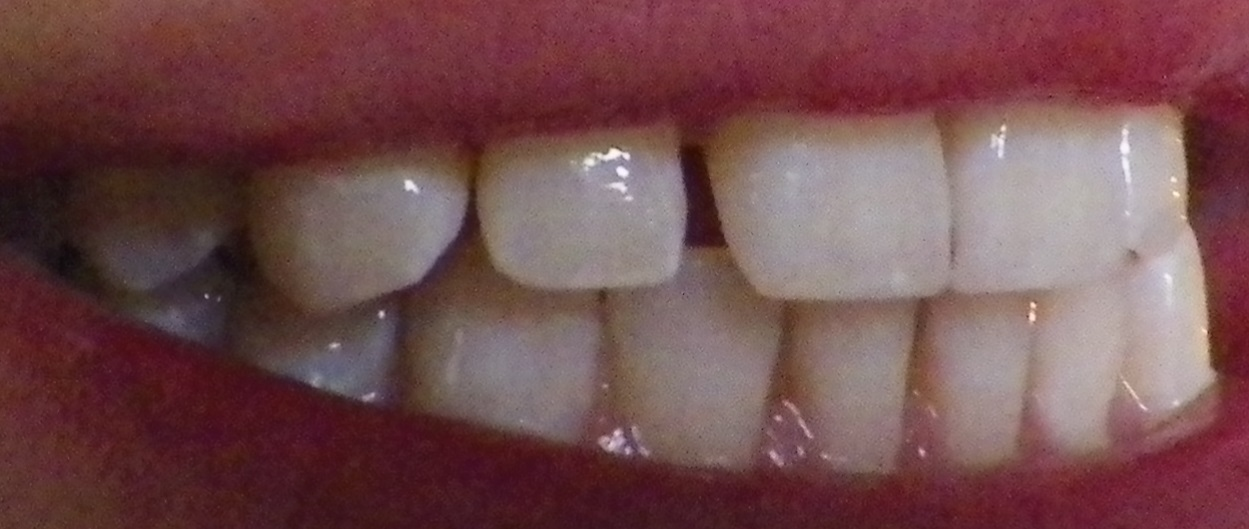boca: (48, 98, 1230, 464)
